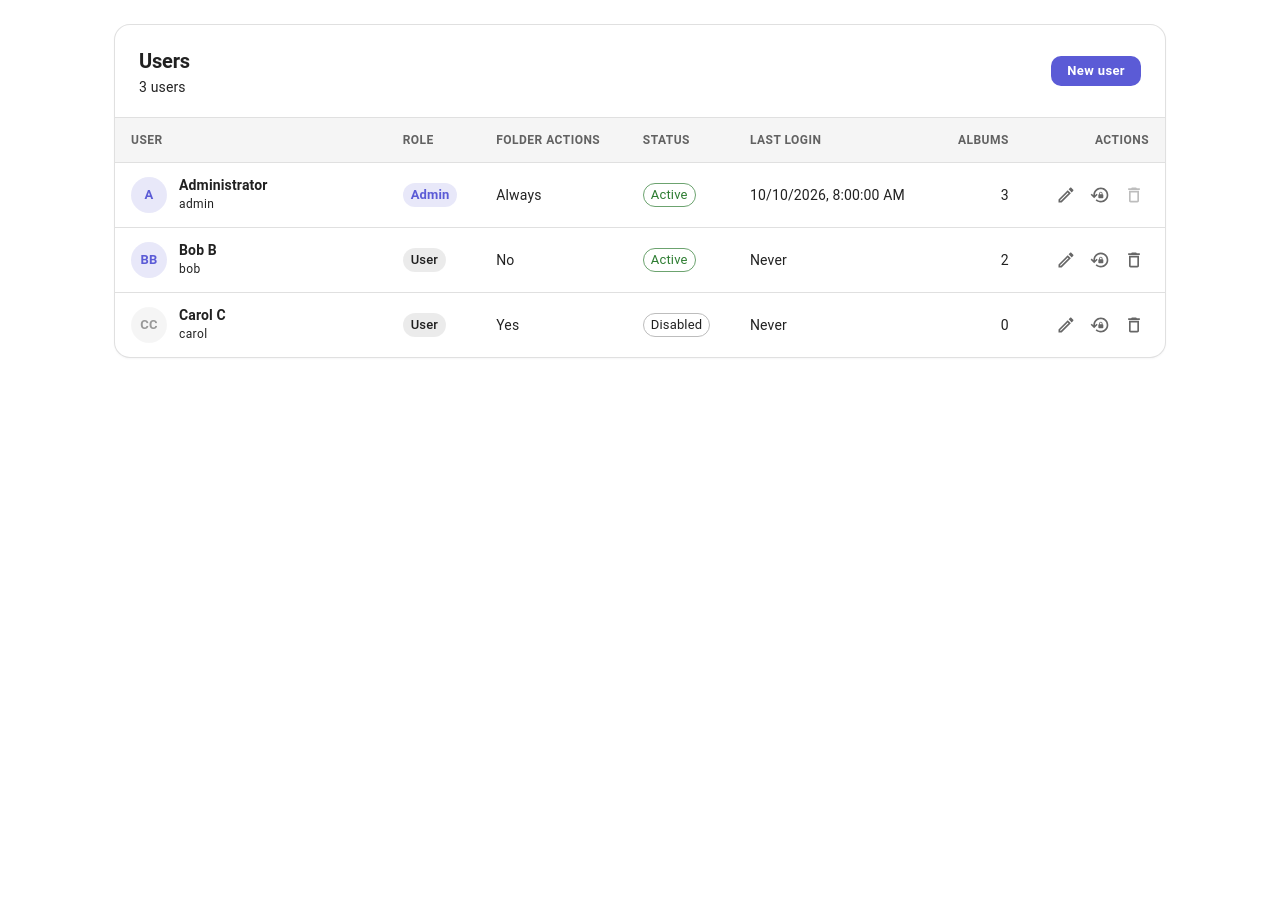
Test case: UsersPage › edits a user: name, role and folder-actions permission
Click the button named "Edit bob" at (1066, 260), box [1051,245,1081,275]
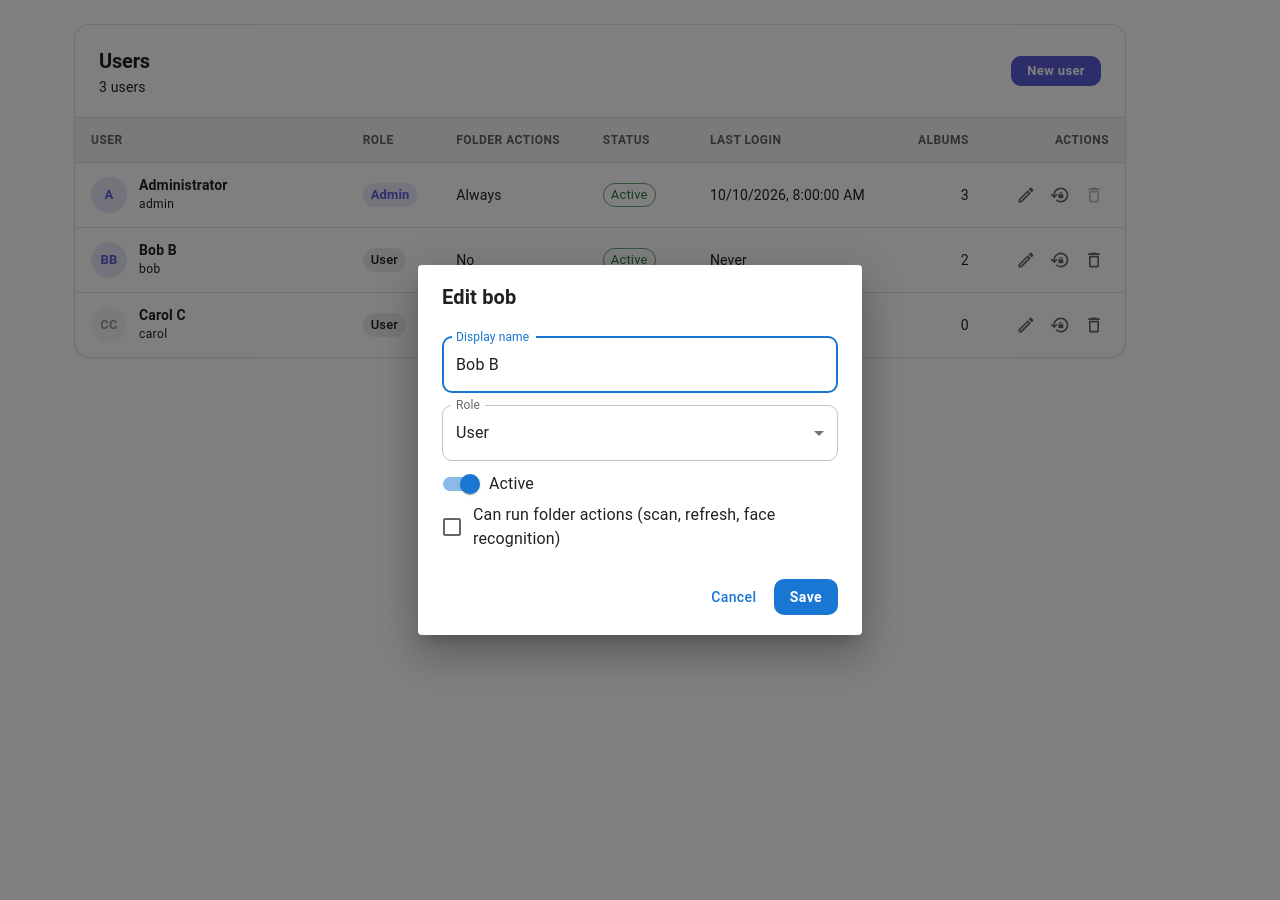
Replace the text in the field labelled "Display name" with "Robert" at (640, 365), box [442,337,838,393]
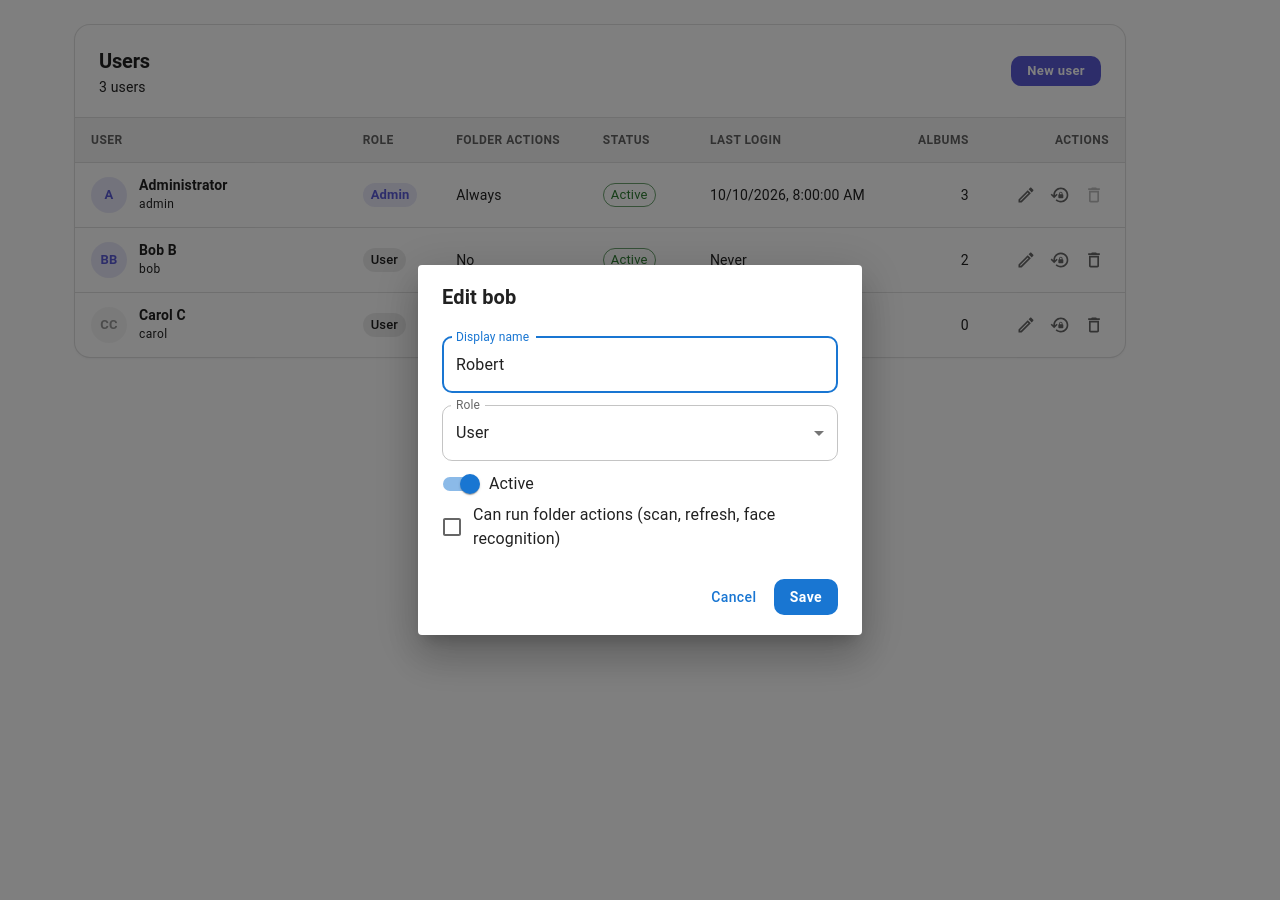
Click the checkbox labelled "Can run folder actions (scan, refresh, face recognition)" at (624, 514), box [431,503,822,551]
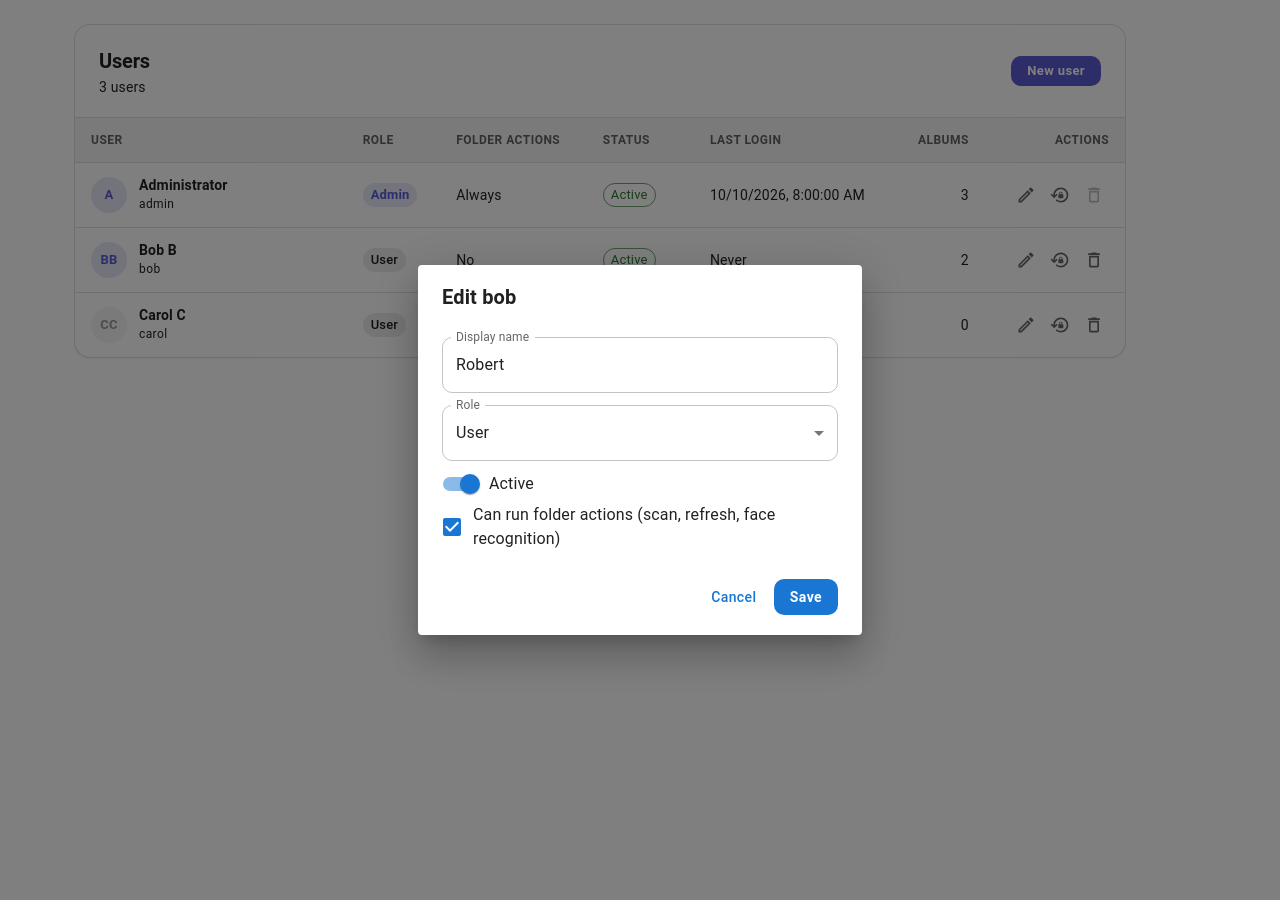
Click the button "Save" at (806, 597), box [774,579,838,615]
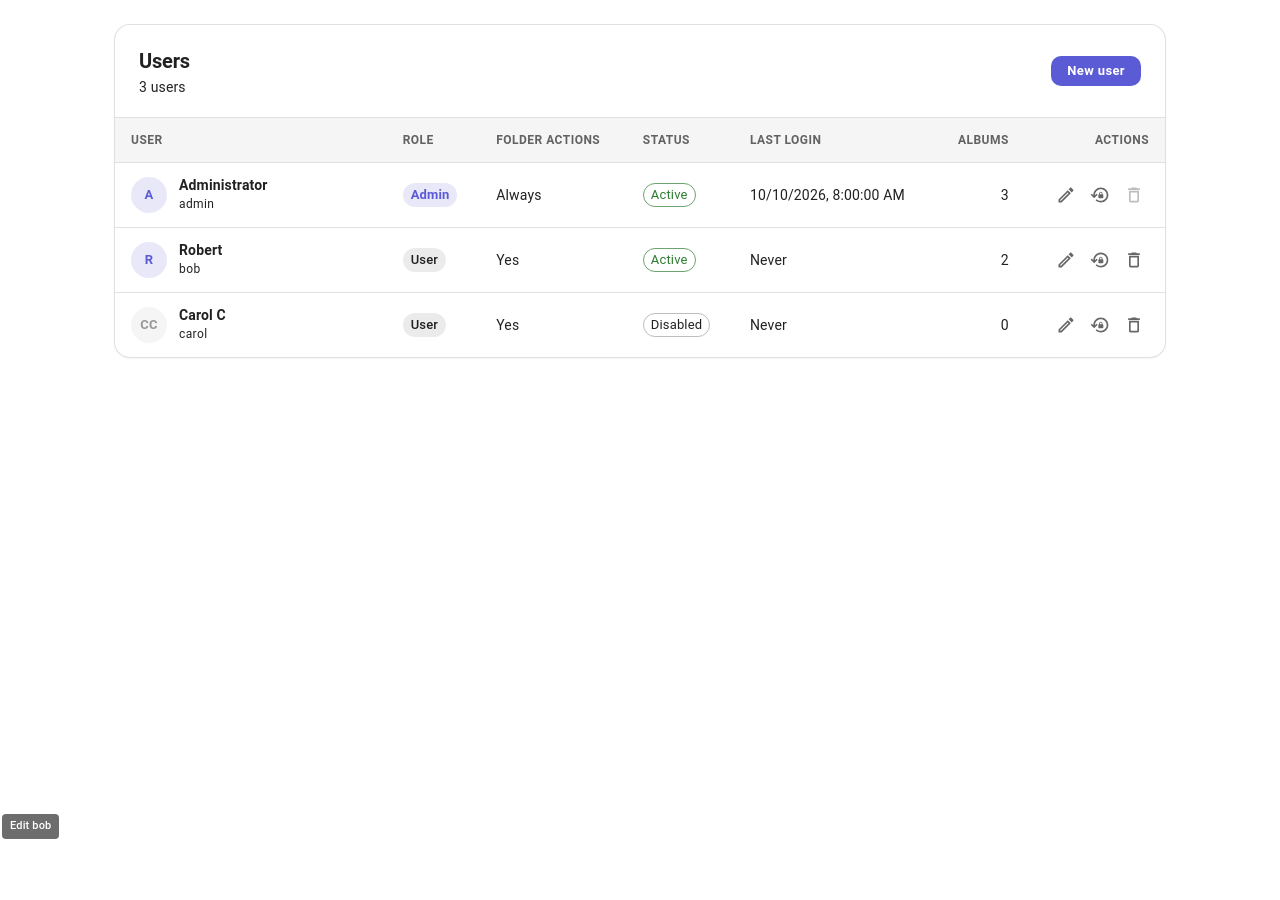
Now the text "Yes" in the row of "Robert" is shown, box [496,252,519,268]
